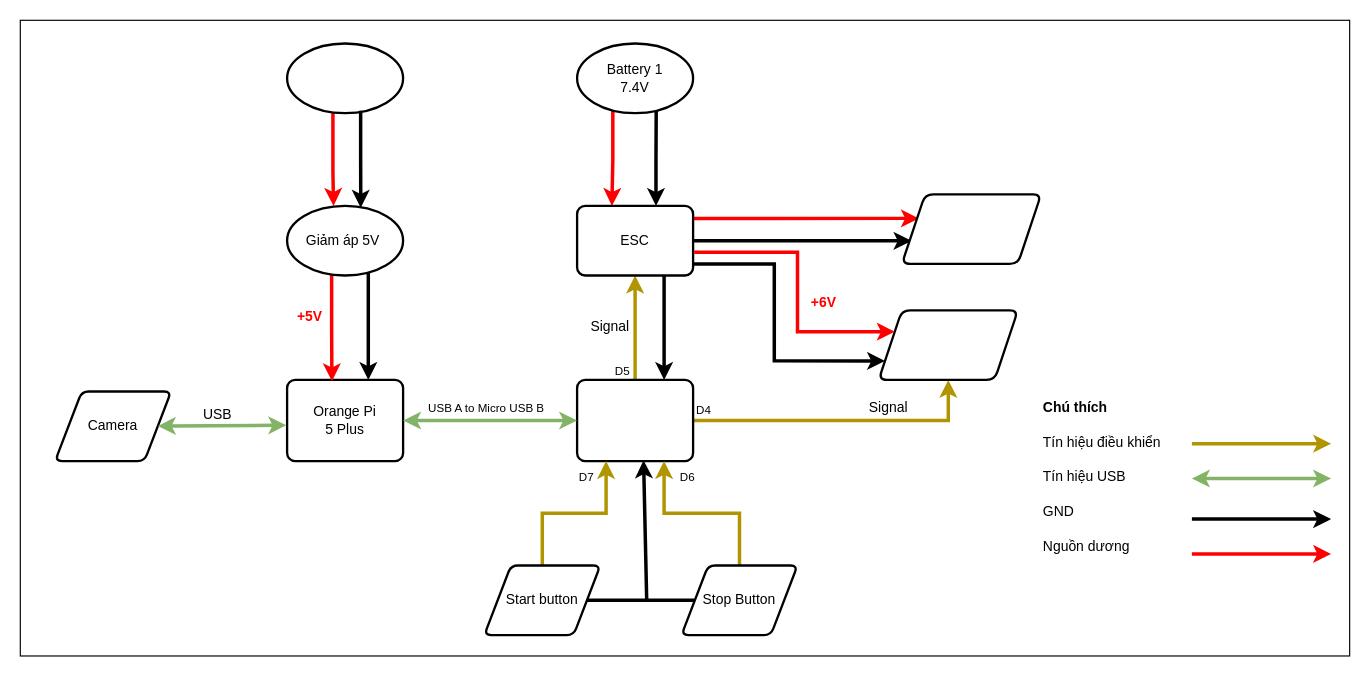
Image size: 1370x676. Some labels were removed from this diagram. The centre of each missing label's shape, as x and y in pixels:
"Battery 2 12.6V" belongs at (344,78).
"Controller ( STM32)" belongs at (634,420).
"Motor" belongs at (971,228).
"Servo" belongs at (947,344).
